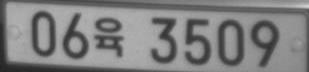0: (217, 19, 245, 66), (31, 10, 56, 57)
3: (150, 17, 177, 63)
5: (184, 18, 211, 65)
6: (62, 13, 89, 59)
9: (251, 20, 279, 67)
육: (93, 17, 124, 57)
